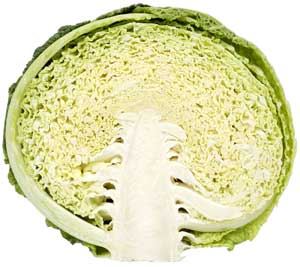cabbage: (3, 2, 298, 264)
